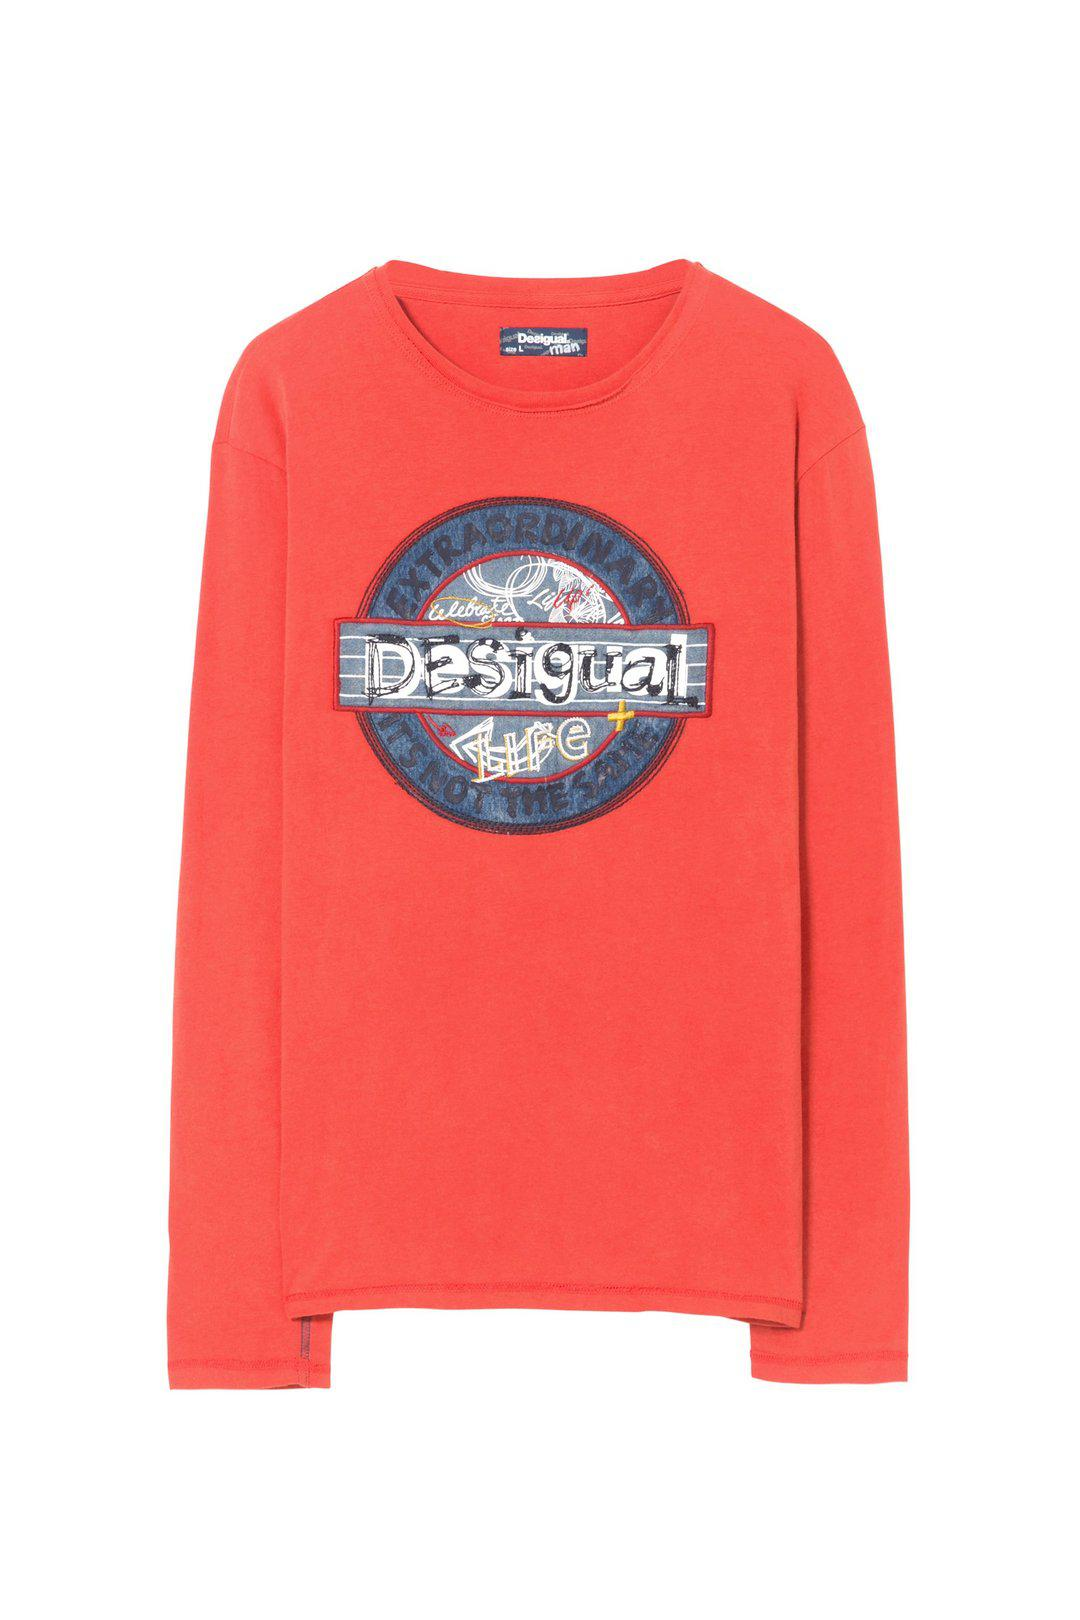teeshirt: (67, 256, 972, 1462)
